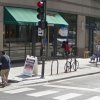crosswalk: (4, 87, 100, 100)
